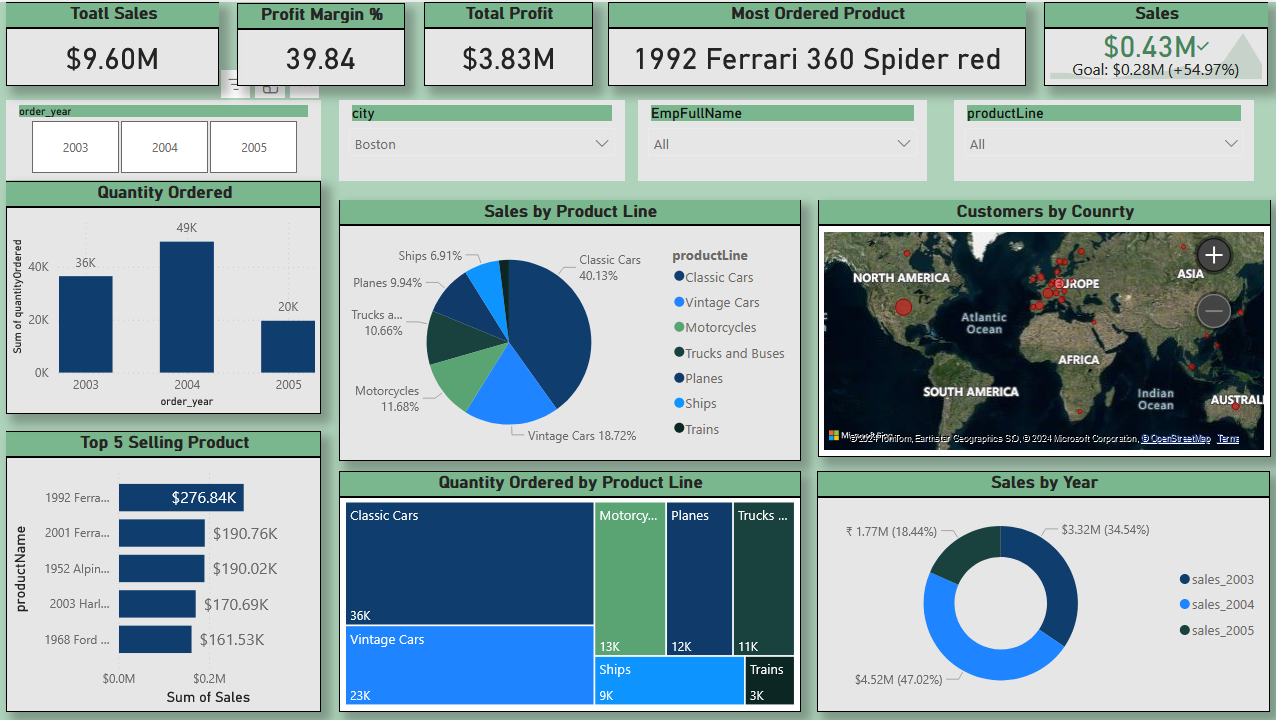

The dashboard page shown, as its layout file describes it:
{"tool":"powerbi","page":{"name":"Page 1","canvas":[1280,720],"ordinal":0},"visuals":[{"type":"card","title":"Total Profit","fields":{"Values":["order details.total_profit"]},"box":[426.4,0,169,83.9],"z":0},{"type":"card","title":"Most Ordered Product","fields":{"Values":["order details.MostOrderedProduct"]},"box":[610.3,0,418.4,83.9],"z":1000},{"type":"barChart","title":" Top 5 Selling Product","fields":{"Category":["products.productName"],"Y":["order details.Sales"]},"box":[7.1,428.6,315.7,281.4],"z":2000},{"type":"pieChart","title":"Sales by Product Line","fields":{"Category":["products.productLine"],"Y":["order details.Sales"]},"box":[341.4,197.1,461.4,261.4],"z":3000},{"type":"slicer","title":"Order Year","fields":{"Values":["orders.order_year"]},"box":[7.1,97.1,315.7,80],"z":5000},{"type":"kpi","title":"Sales","fields":{"TrendLine":["orders.Month Name"],"Indicator":["orders.sales_2004"],"Goal":["orders.sales_2003"]},"box":[1046,0,224.1,83.9],"z":6000},{"type":"map","title":"Customers by Counrty","fields":{"Category":["customers.country"],"Size":["customers.customerNumber"]},"box":[820,197.1,452.9,257.1],"z":7000},{"type":"treemap","title":"Quantity Ordered by Product Line","fields":{"Group":["products.productLine"],"Values":["order details.quantityOrdered"]},"box":[341.4,468.6,461.4,241.4],"z":8000},{"type":"clusteredColumnChart","title":"Quantity Ordered","fields":{"Category":["orders.order_year"],"Y":["order details.quantityOrdered"]},"box":[7.1,178.6,315.7,232.9],"z":9000},{"type":"card","title":"Profit Margin %","fields":{"Values":["order details.Profit_margin_%"]},"box":[239.1,1.1,167.8,82.8],"z":10000},{"type":"card","title":"Toatl Sales","fields":{"Values":["order details.Sales"]},"box":[6.9,0,213.8,83.9],"z":11000},{"type":"slicer","title":"City","fields":{"Values":["office.city"]},"box":[341.4,97.1,285.7,81.4],"z":12000},{"type":"slicer","title":"Emp Name","fields":{"Values":["employees.EmpFullName"]},"box":[640,97.1,288.6,81.4],"z":13000},{"type":"slicer","title":"Products","fields":{"Values":["products.productLine"]},"box":[955.7,97.1,300,81.4],"z":14000},{"type":"donutChart","title":"Sales by Year","fields":{"Y":["orders.sales_2003","orders.sales_2004","orders.sales_2005"]},"box":[819,469,453,241],"z":14001}]}

Visuals, with their boxes in screenshot pixels (x1, y1, x2, y2), scaled from the page's 1280x720 canvas onto the 1276x720 screenshot:
"Total Profit" card: (425, 0, 594, 84)
"Most Ordered Product" card: (608, 0, 1025, 84)
" Top 5 Selling Product" barChart: (7, 429, 322, 710)
"Sales by Product Line" pieChart: (340, 197, 800, 458)
"Order Year" slicer: (7, 97, 322, 177)
"Sales" kpi: (1043, 0, 1266, 84)
"Customers by Counrty" map: (817, 197, 1269, 454)
"Quantity Ordered by Product Line" treemap: (340, 469, 800, 710)
"Quantity Ordered" clusteredColumnChart: (7, 179, 322, 412)
"Profit Margin %" card: (238, 1, 406, 84)
"Toatl Sales" card: (7, 0, 220, 84)
"City" slicer: (340, 97, 625, 178)
"Emp Name" slicer: (638, 97, 926, 178)
"Products" slicer: (953, 97, 1252, 178)
"Sales by Year" donutChart: (816, 469, 1268, 710)
